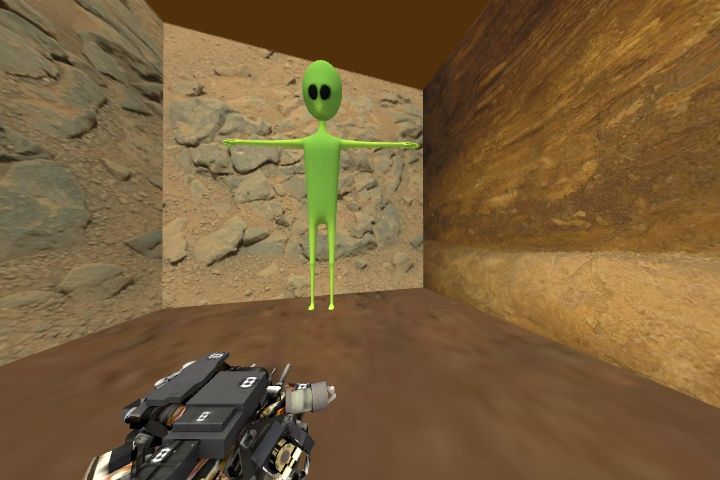alien: (218, 55, 429, 317)
